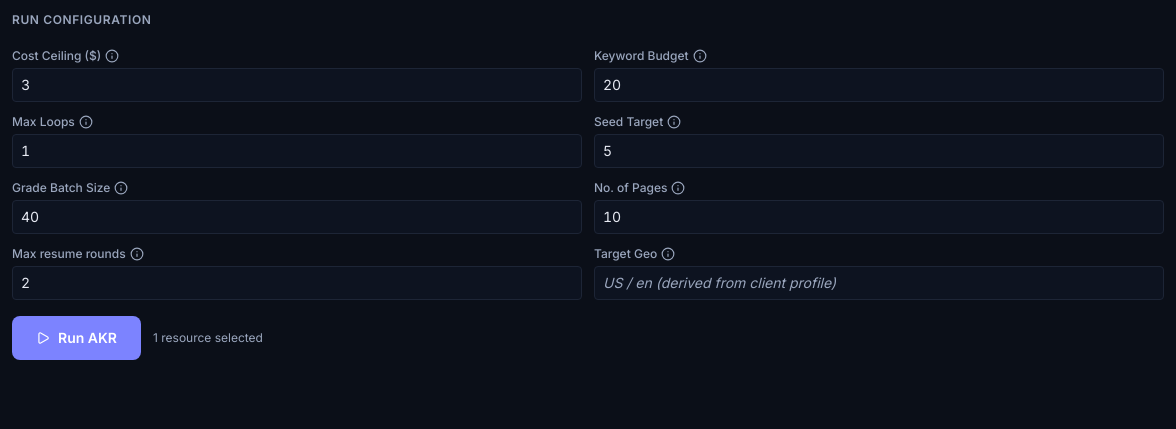
Test: RunConfig › shows error message when POST fails
This screenshot has width=1176, height=429.
Click the button "Run AKR" at (76,338), box [12,316,141,360]
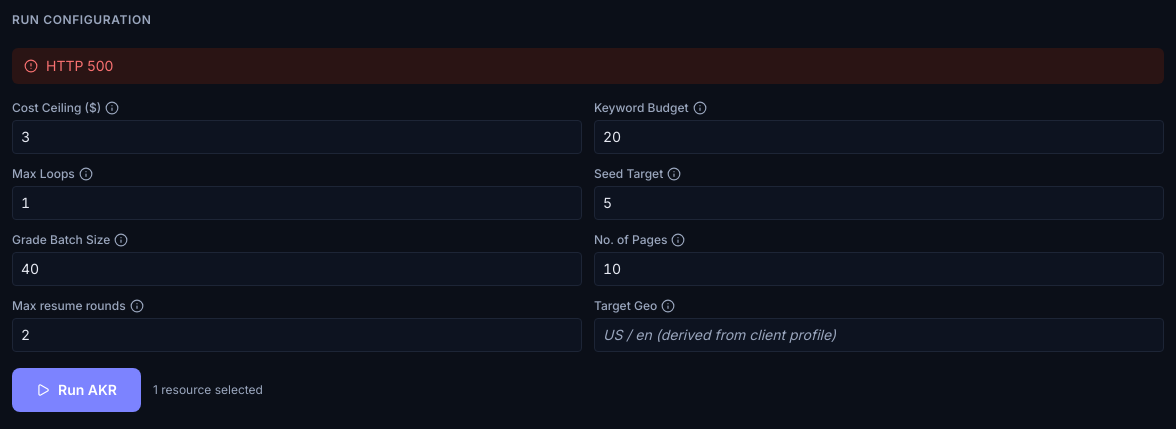
Now the message "HTTP 500" is shown, box [12,48,1164,84]
Now the message reads "HTTP 500", box [46,57,113,74]
